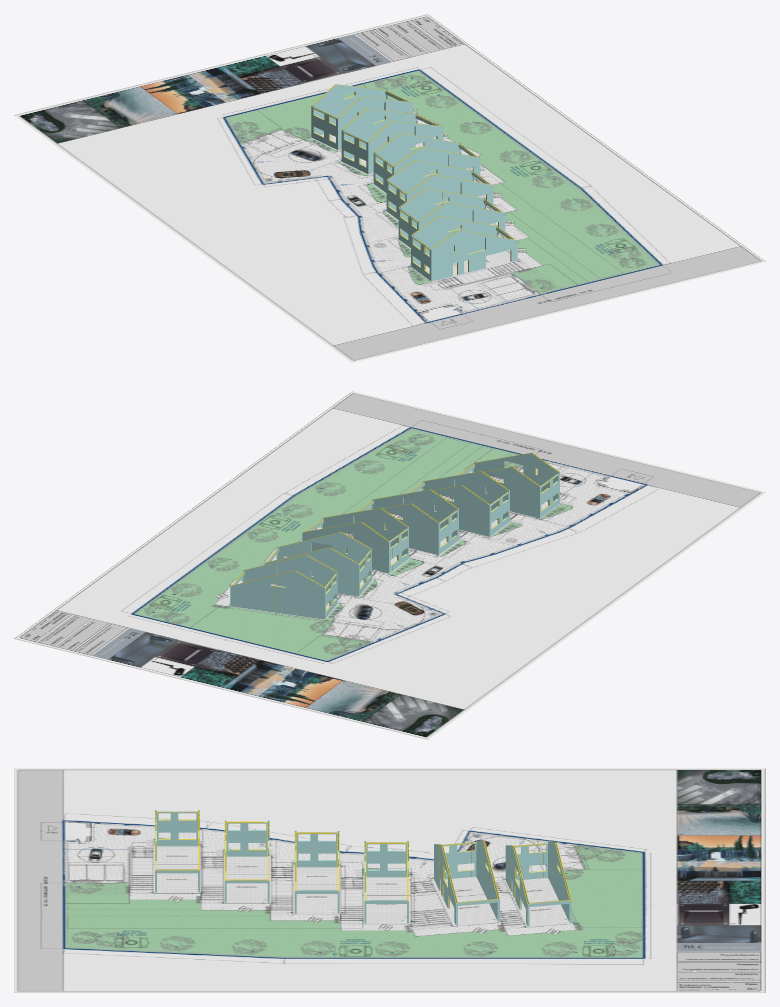
File: Obras_En_La_Cerdanya_-_Type_1.opt.glb
3 renders of one model, top to bottom at view 1: azimuth 30°, elevation 25°; view 2: azimuth 150°, elevation 25°; view 3: azimuth 270°, elevation 25°, orthographic. The views are drawn at different scales.
Bounding box in the file's own units: 74.25 × 8.08 × 105.
4 materials, 1 textured.
